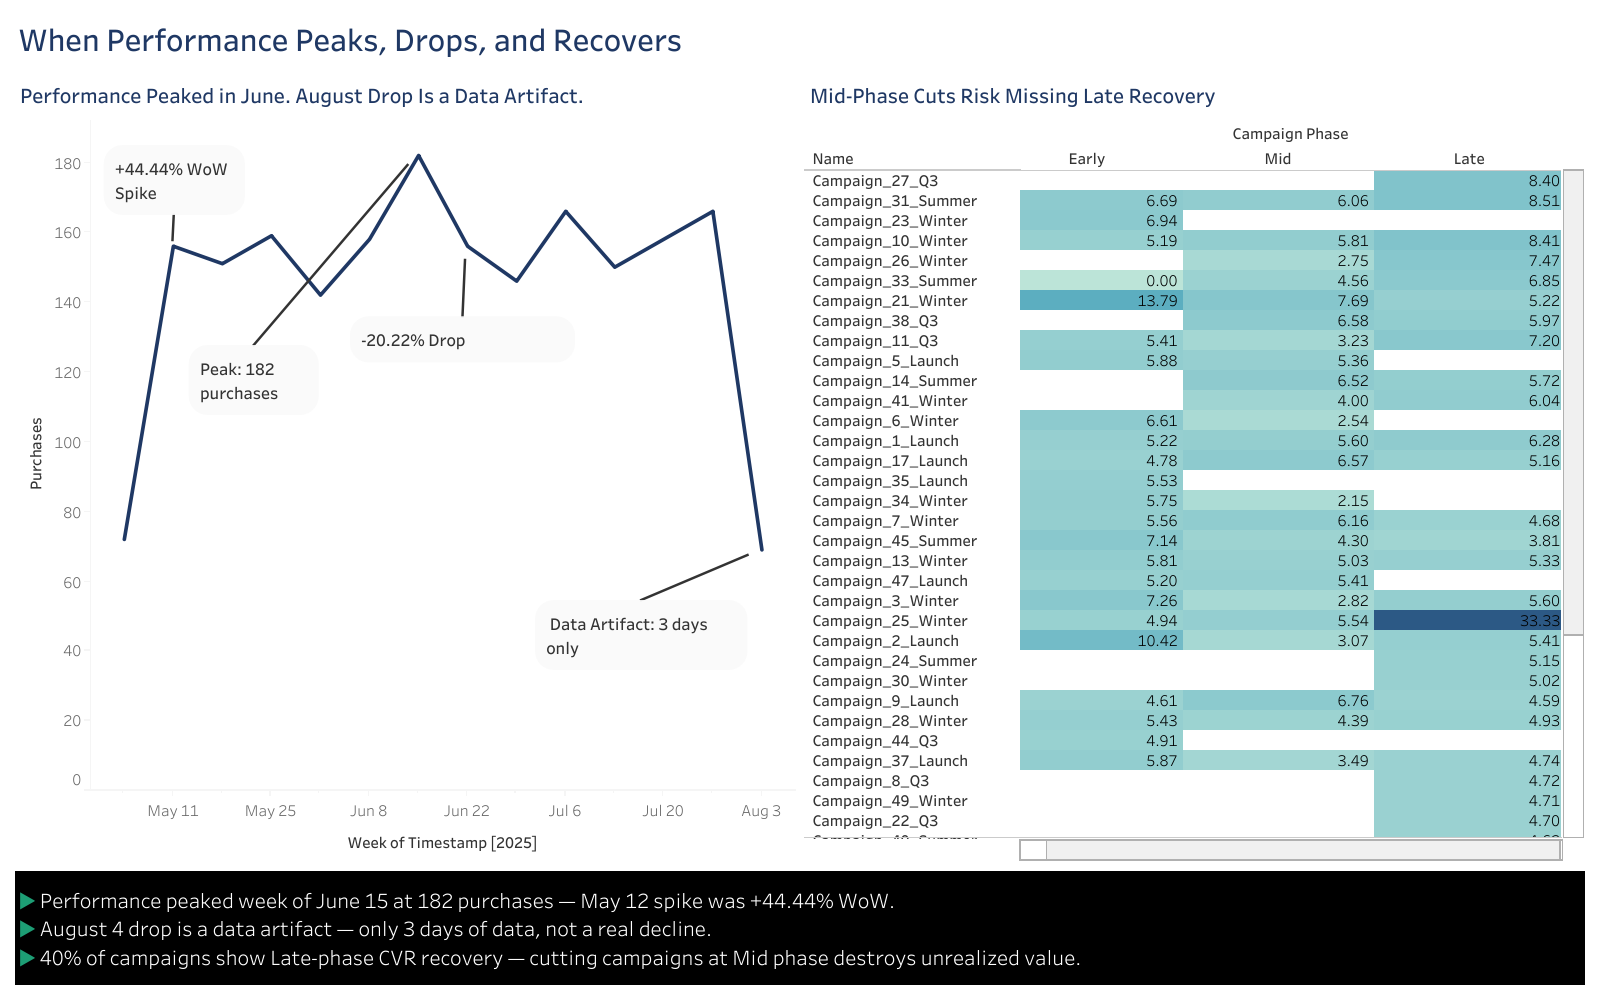

Layout of this report page (visuals, bound fields, positions):
{"tool":"tableau","page":{"name":"Trends & Lifecycle","canvas":[1280,800],"ordinal":2},"visuals":[{"type":"text","box":[8,8,1264,46.3]},{"type":"worksheet","title":"Weekly Trend","mark":"Line","rows":["Calculation_1353894651409776642"],"cols":["timestamp"],"box":[8,54.3,632,638.7]},{"type":"worksheet","title":"Campaign Lifecycle","mark":"Square","rows":["name"],"cols":["Calculation_1210342413461204992"],"box":[640,54.3,632,638.7]},{"type":"text","box":[8,693,1264,99]}]}

Visuals, with their boxes in screenshot pixels (x1, y1, x2, y2), scaled from the page's 1280x800 canvas onto the 1599x999 screenshot:
text: (10,10,1589,68)
"Weekly Trend" worksheet (Line marks): (10,68,800,865)
"Campaign Lifecycle" worksheet (Square marks): (800,68,1589,865)
text: (10,865,1589,989)
